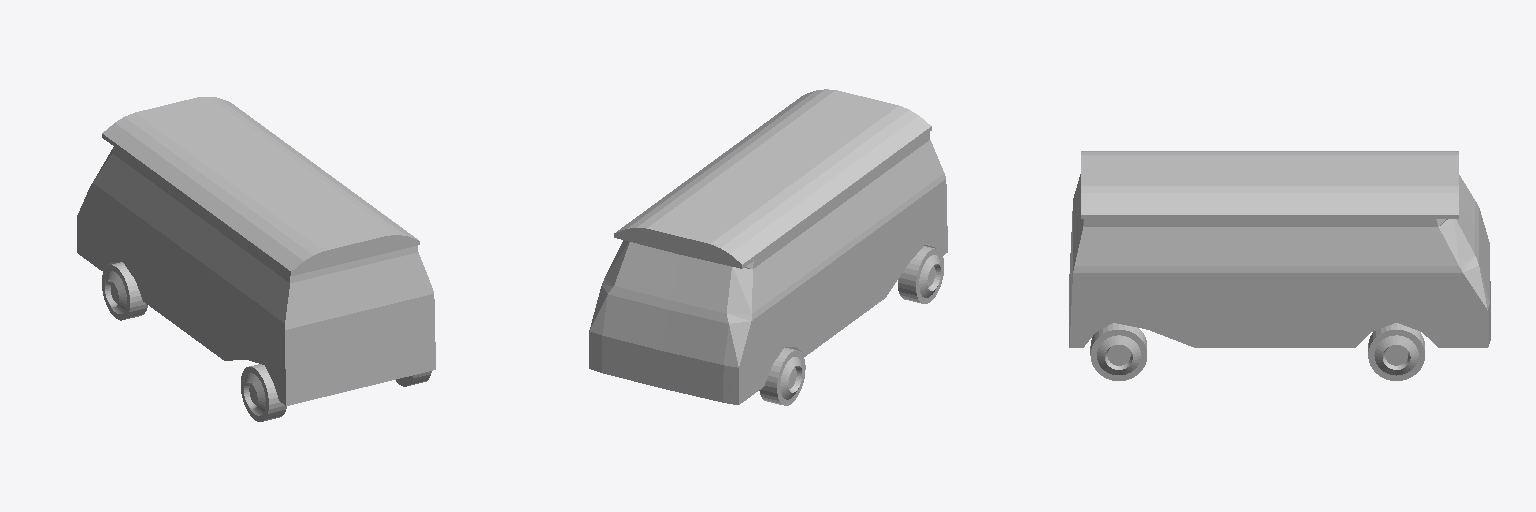
File: Van.obj
3 views of the same model, side by side, from view 1: azimuth 30°, elevation 25°; view 2: azimuth 150°, elevation 25°; view 3: azimuth 270°, elevation 25° (orthographic).
Visible parts, largest first — view 1: Plane.001, Cylinder; view 2: Plane.001, Cylinder; view 3: Plane.001, Cylinder.
Boxes of the visible parts, <box> form: Plane.001: <box>77,97,435,405</box>; Cylinder: <box>102,262,431,421</box>; Plane.001: <box>589,89,947,404</box>; Cylinder: <box>759,246,943,405</box>; Plane.001: <box>1069,151,1490,347</box>; Cylinder: <box>1090,323,1424,380</box>.
Size of the model in its own units: 1.41 by 1.34 by 2.99.